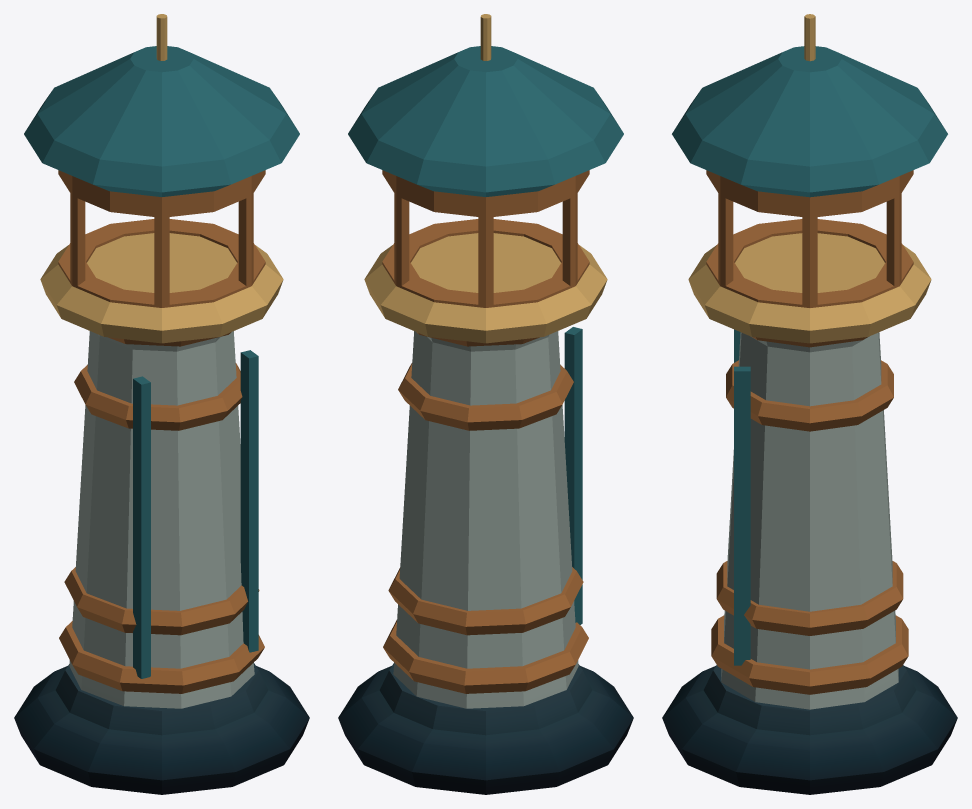
Rendered from models-beacon.glb.
3 views of the same model, side by side, from view 1: azimuth 30°, elevation 25°; view 2: azimuth 150°, elevation 25°; view 3: azimuth 270°, elevation 25° (orthographic).
Visible parts, largest first — view 1: geometry_0; view 2: geometry_0; view 3: geometry_0.
Part boxes in pixels (<box>): geometry_0: <box>14,14,309,794</box>; geometry_0: <box>338,14,633,794</box>; geometry_0: <box>662,14,957,794</box>.
Size of the model in its own units: 2.14 by 5.74 by 2.14.
